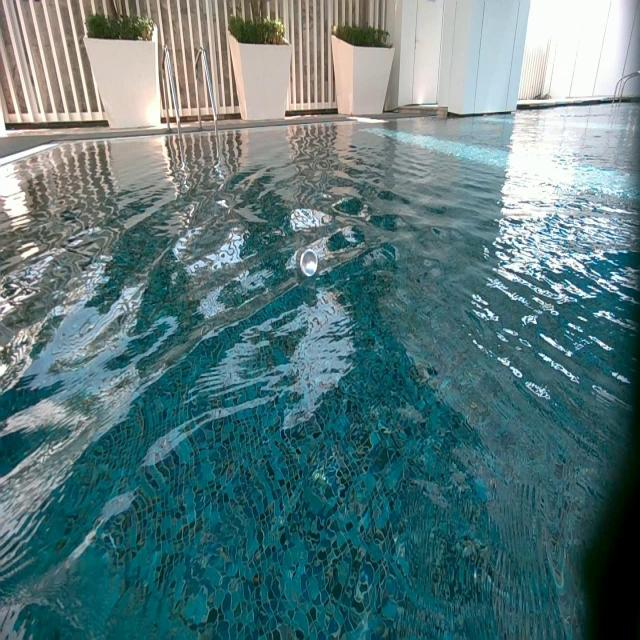Cans: (294, 247, 319, 278)
